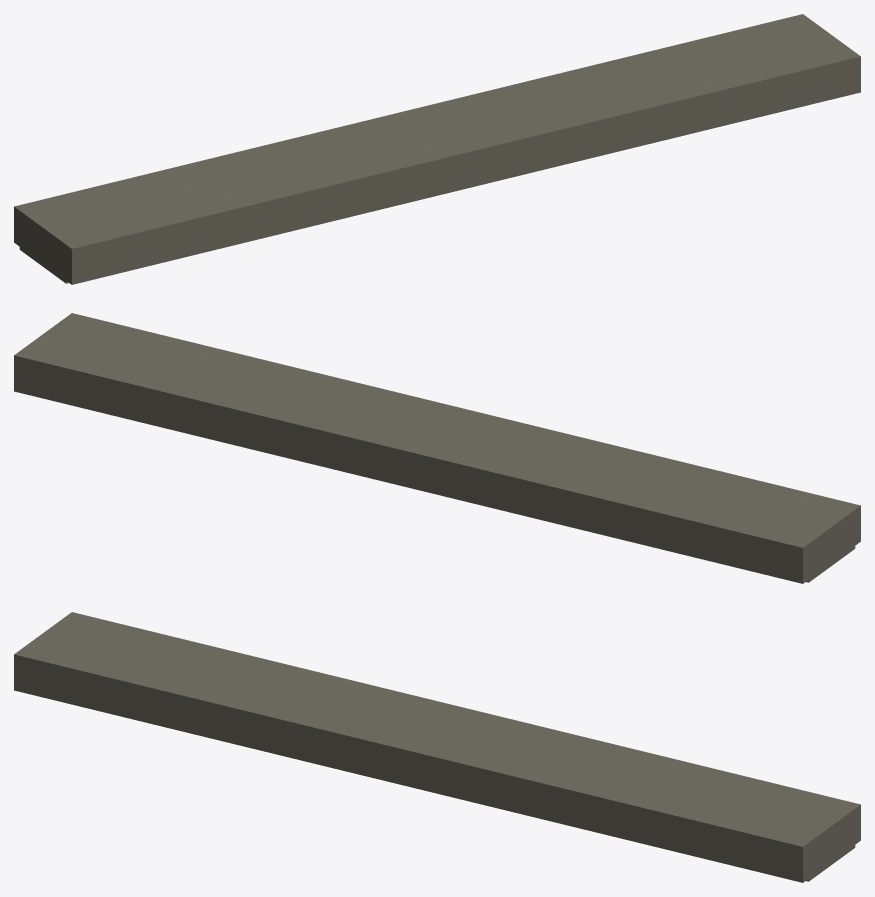
Rendered from cabinet_strip.glb.
3 views of the same model, one above another, from view 1: azimuth 30°, elevation 25°; view 2: azimuth 150°, elevation 25°; view 3: azimuth 330°, elevation 25° (orthographic).
Visible parts, largest first — view 1: home_cabinet_strip; view 2: home_cabinet_strip; view 3: home_cabinet_strip.
Part boxes in pixels (box(x1,y1,x2,y2)): home_cabinet_strip: box(14, 14, 860, 284); home_cabinet_strip: box(14, 313, 860, 583); home_cabinet_strip: box(14, 612, 860, 882).
Size of the model in its own units: 0.55 by 0.026 by 0.07.
2 materials, 2 textured.
